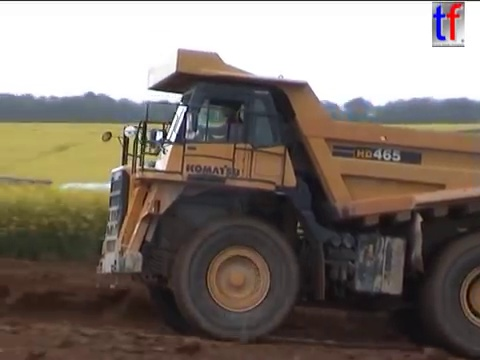truck: (93, 44, 480, 360)
